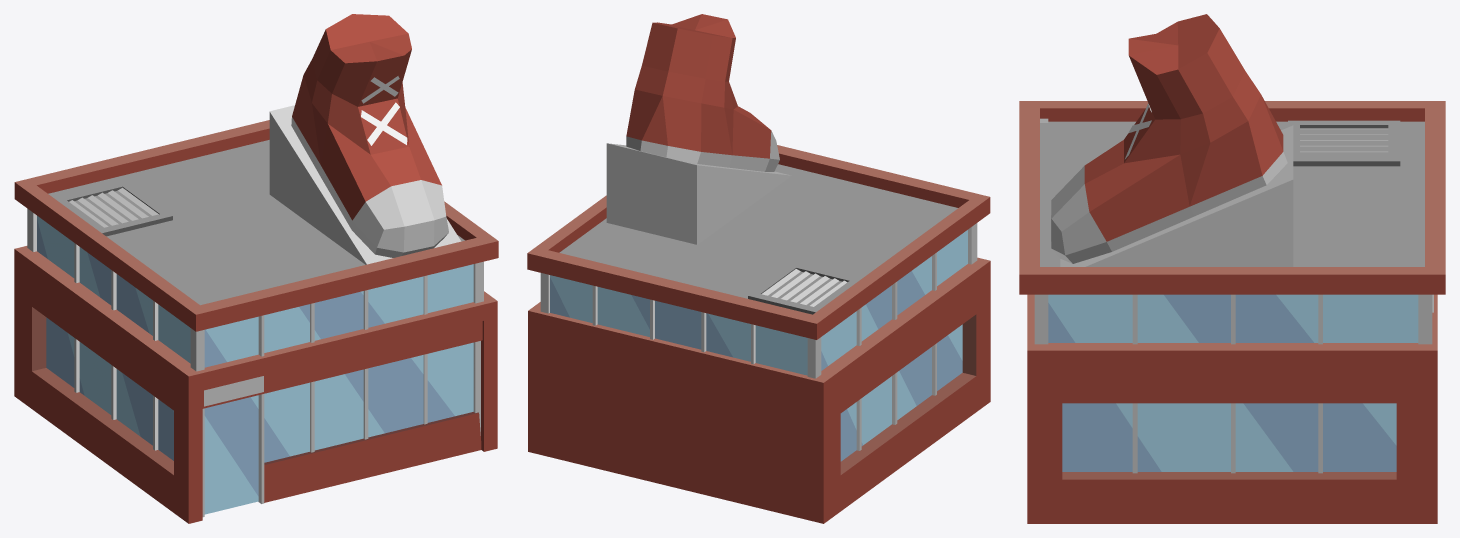
The model's file is services_store_006.glb.
The picture shows the model from 3 angles, left to right: view 1: azimuth 30°, elevation 25°; view 2: azimuth 150°, elevation 25°; view 3: azimuth 270°, elevation 25°; orthographic projection. The views are drawn at different scales.
Parts seen in each view (by area): view 1: services_store_006; view 2: services_store_006; view 3: services_store_006.
Boxes of the visible parts, left/top/right/bottom form: services_store_006: left=14, top=14, right=498, bottom=523; services_store_006: left=527, top=14, right=990, bottom=523; services_store_006: left=1019, top=14, right=1445, bottom=523.
Bounding box in the file's own units: 5.93 × 7.2 × 6.03.
Materials: 1 (1 with a texture image).
